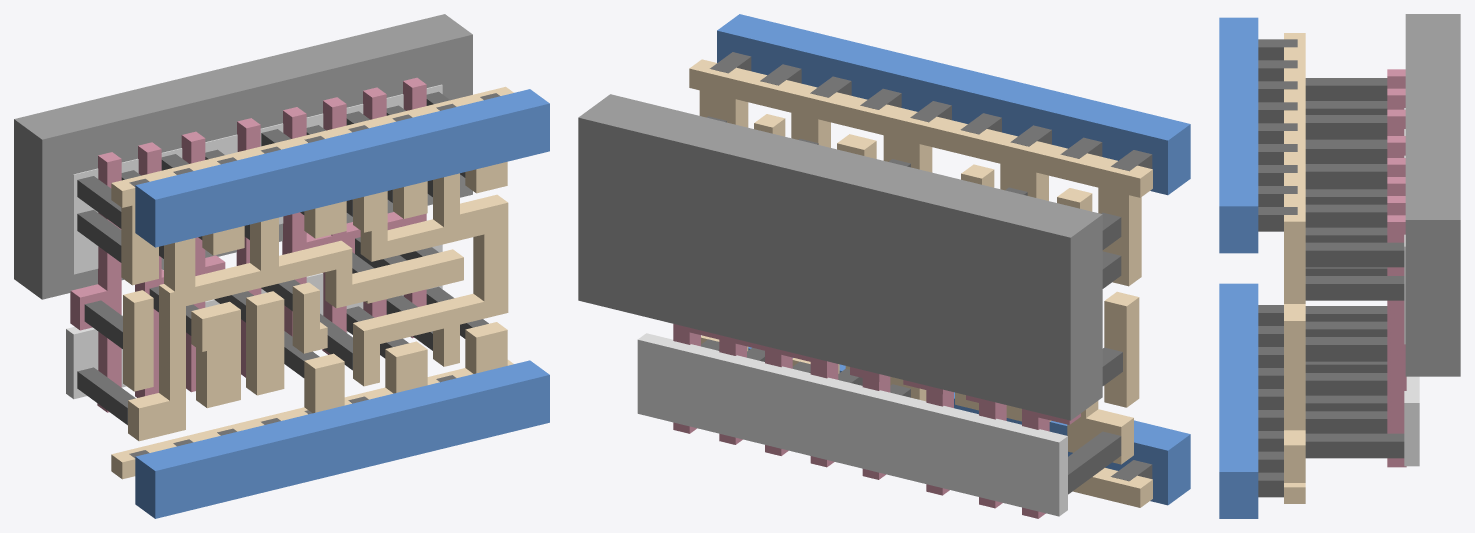
Rendered from sky130_fd_sc_hd__and4_4.gds.gltf.
The picture shows the model from 3 angles, left to right: view 1: azimuth 30°, elevation 25°; view 2: azimuth 150°, elevation 25°; view 3: azimuth 270°, elevation 25°; orthographic projection. The views are drawn at different scales.
Visible parts, largest first — view 1: sky130_fd_sc_hd__and4_4_li1, sky130_fd_sc_hd__and4_4_met1, sky130_fd_sc_hd__and4_4_nwell, sky130_fd_sc_hd__and4_4_poly, sky130_fd_sc_hd__and4_4_licon, sky130_fd_sc_hd__and4_4_diff, sky130_fd_sc_hd__and4_4_mcon; view 2: sky130_fd_sc_hd__and4_4_nwell, sky130_fd_sc_hd__and4_4_diff, sky130_fd_sc_hd__and4_4_li1, sky130_fd_sc_hd__and4_4_met1, sky130_fd_sc_hd__and4_4_poly, sky130_fd_sc_hd__and4_4_mcon, sky130_fd_sc_hd__and4_4_licon; view 3: sky130_fd_sc_hd__and4_4_licon, sky130_fd_sc_hd__and4_4_nwell, sky130_fd_sc_hd__and4_4_met1, sky130_fd_sc_hd__and4_4_mcon, sky130_fd_sc_hd__and4_4_li1, sky130_fd_sc_hd__and4_4_poly, sky130_fd_sc_hd__and4_4_diff.
Boxes of the visible parts, x1,y1,x2,y2 form: sky130_fd_sc_hd__and4_4_li1: (111, 86, 513, 479); sky130_fd_sc_hd__and4_4_met1: (135, 89, 549, 518); sky130_fd_sc_hd__and4_4_nwell: (14, 14, 472, 299); sky130_fd_sc_hd__and4_4_poly: (70, 77, 426, 412); sky130_fd_sc_hd__and4_4_licon: (77, 91, 488, 425); sky130_fd_sc_hd__and4_4_diff: (66, 84, 442, 399); sky130_fd_sc_hd__and4_4_mcon: (129, 93, 500, 457); sky130_fd_sc_hd__and4_4_nwell: (578, 94, 1102, 420); sky130_fd_sc_hd__and4_4_diff: (637, 333, 1067, 516); sky130_fd_sc_hd__and4_4_li1: (689, 59, 1152, 507); sky130_fd_sc_hd__and4_4_met1: (717, 14, 1190, 505); sky130_fd_sc_hd__and4_4_poly: (673, 324, 1080, 518); sky130_fd_sc_hd__and4_4_mcon: (710, 52, 1152, 481); sky130_fd_sc_hd__and4_4_licon: (701, 116, 1122, 494); sky130_fd_sc_hd__and4_4_licon: (1305, 78, 1404, 458); sky130_fd_sc_hd__and4_4_nwell: (1405, 14, 1460, 376); sky130_fd_sc_hd__and4_4_met1: (1219, 17, 1258, 518); sky130_fd_sc_hd__and4_4_mcon: (1258, 39, 1297, 497); sky130_fd_sc_hd__and4_4_li1: (1284, 33, 1305, 503); sky130_fd_sc_hd__and4_4_poly: (1387, 69, 1406, 467); sky130_fd_sc_hd__and4_4_diff: (1404, 108, 1419, 466).
Size of the model in its own units: 4.52 by 3.2 by 2.24.
